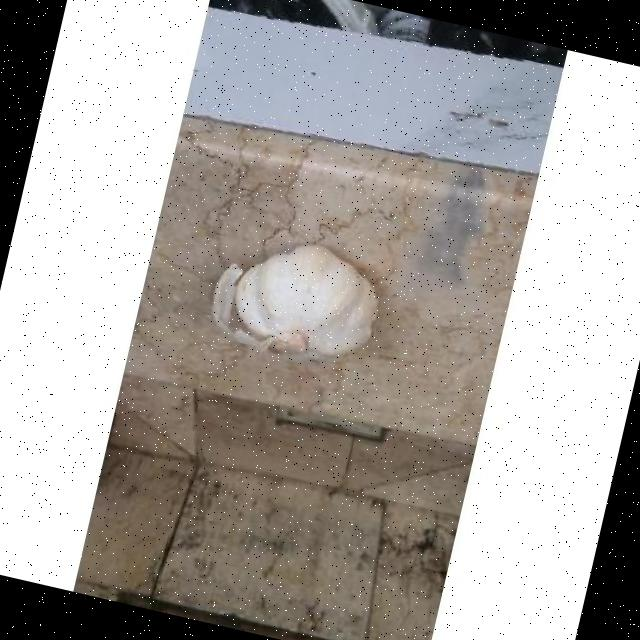garlic: (212, 243, 376, 357)
